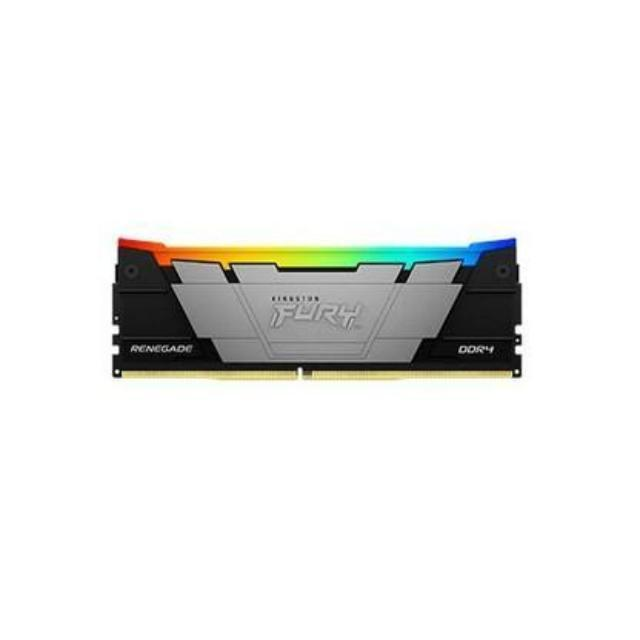RAM: (102, 234, 524, 388)
